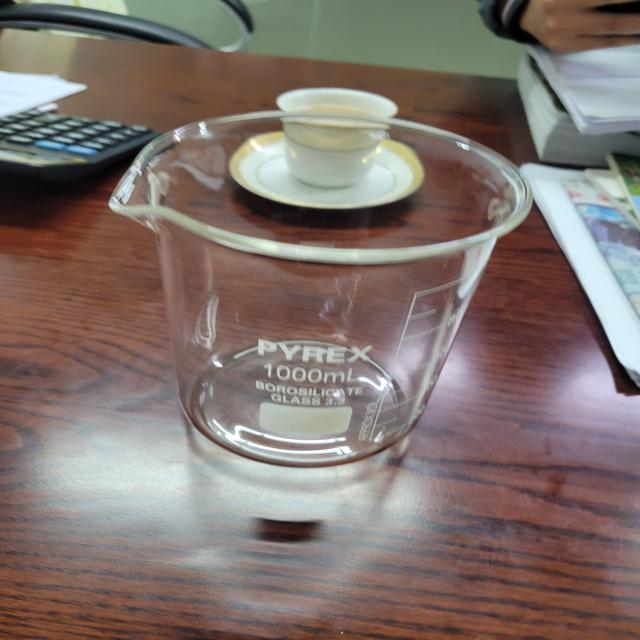Beaker: (77, 84, 560, 524)
